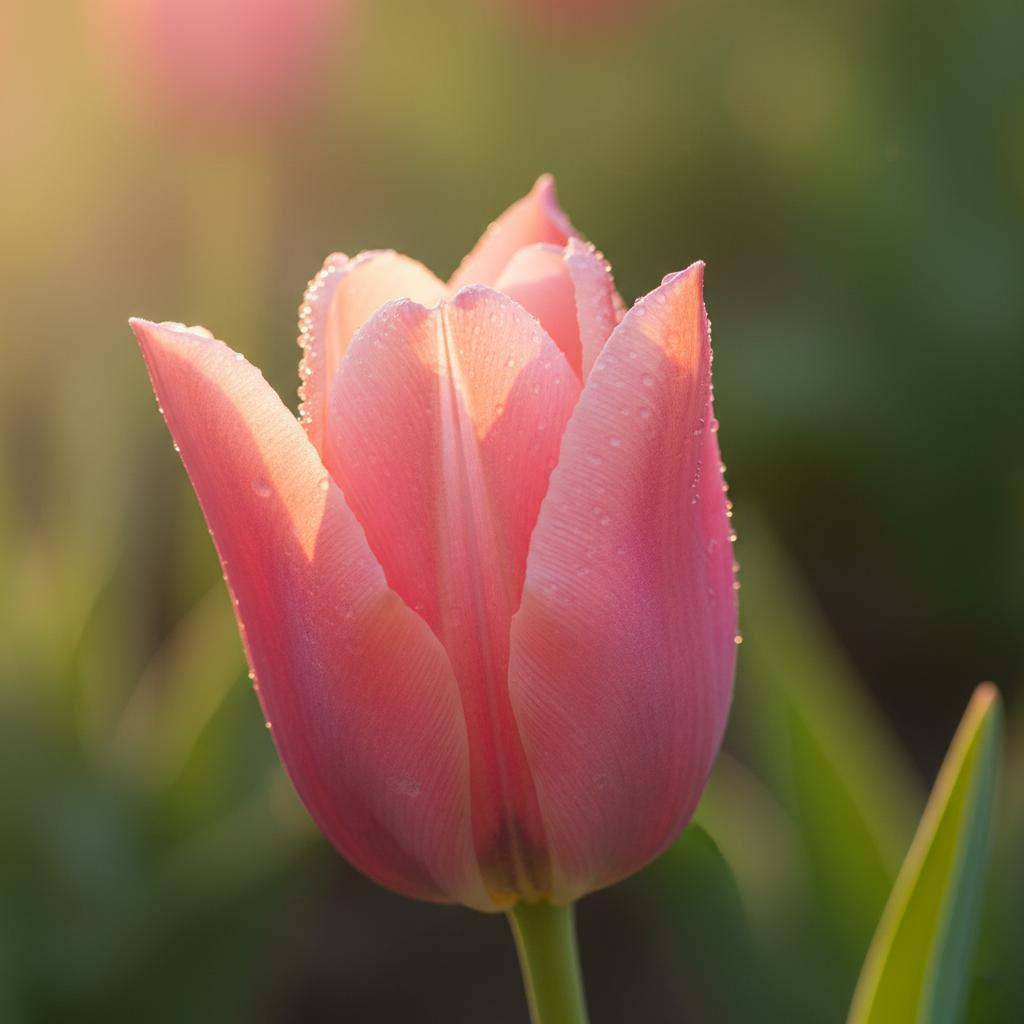tulip: (126, 170, 744, 917)
